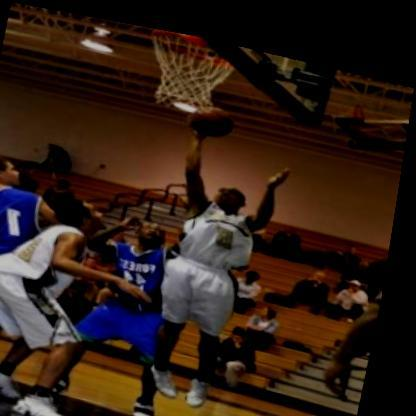basketball: (182, 87, 243, 138)
